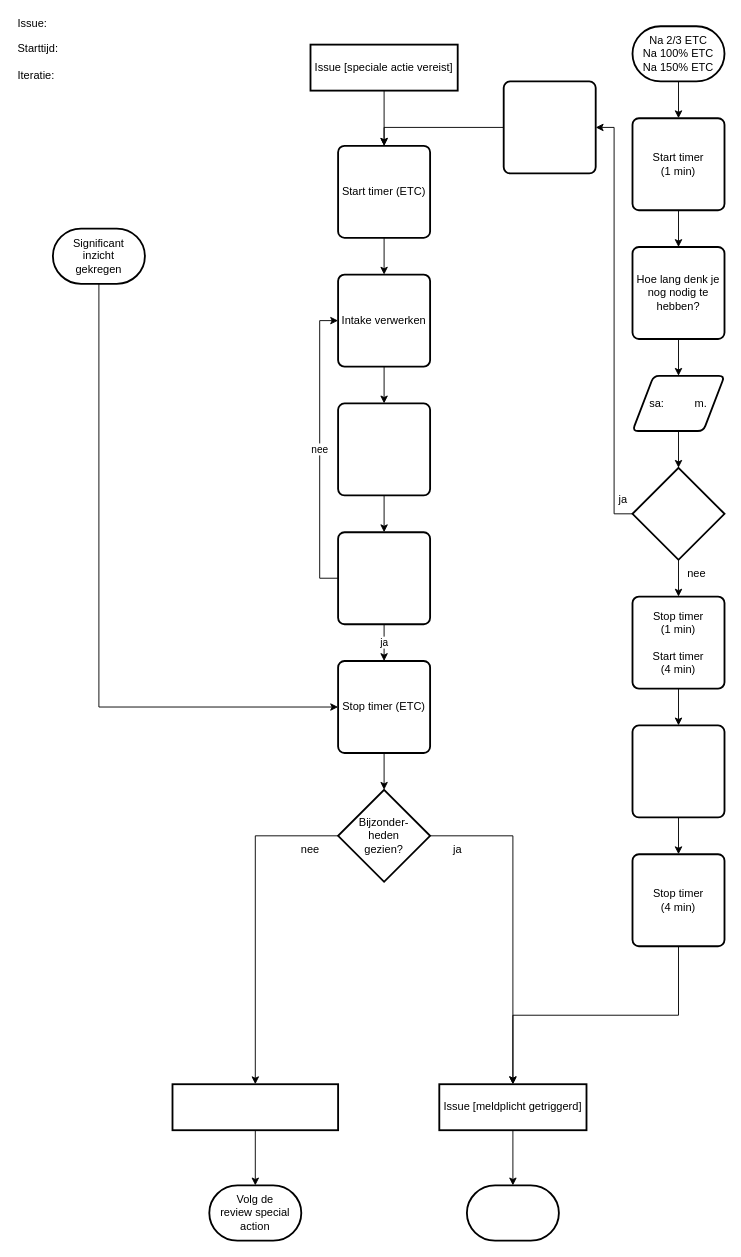
Some shapes in this 741 by 1257 pixel diagram are drawn without their labels. The shapes that lost their labels are listed below. From the top down, each one's box as (x1, y1, x2, y2) in pixels, then its label:
(502, 80, 596, 174): Stop timer (1 min)
(337, 402, 431, 496): Oplossing implementeren
(631, 466, 725, 560): Haal ik het?
(337, 531, 431, 625): Evalueer of de deliverables correct en volledig zijn afgerond
(631, 724, 725, 818): Hoe heeft het zo lang kunnen duren?
(171, 1083, 339, 1131): Issue [speciale actie uitgevoerd]
(466, 1184, 559, 1241): Volg de meldplicht
